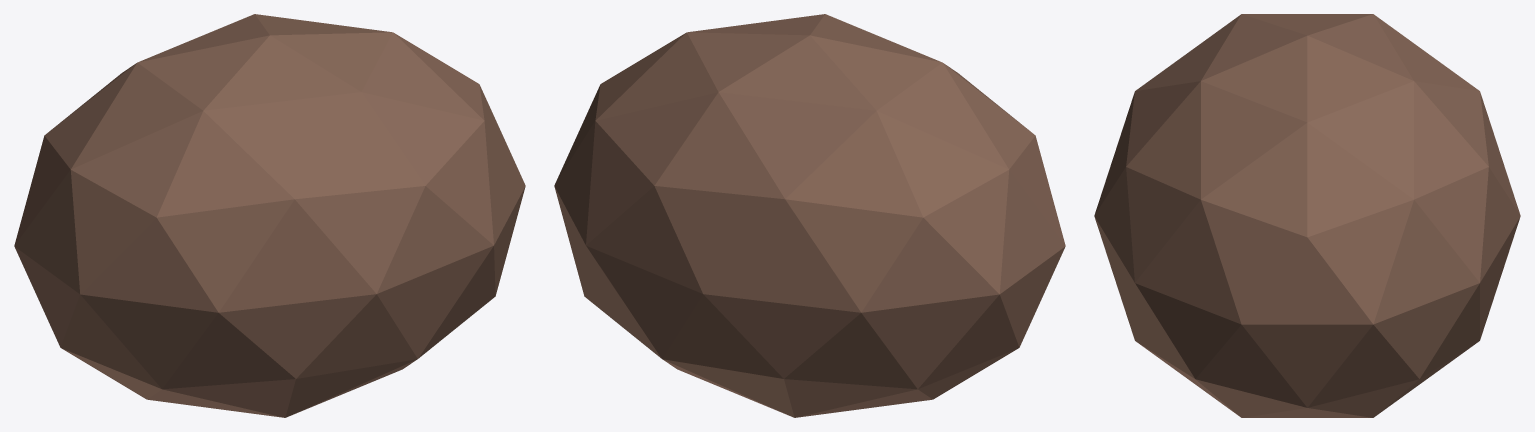
The model's file is drop_truffle.glb.
The picture shows the model from 3 angles, left to right: view 1: azimuth 30°, elevation 25°; view 2: azimuth 150°, elevation 25°; view 3: azimuth 270°, elevation 25°; orthographic projection.
Visible parts, largest first — view 1: FTF_Nature_Truffle_Pickup_StaticMesh; view 2: FTF_Nature_Truffle_Pickup_StaticMesh; view 3: FTF_Nature_Truffle_Pickup_StaticMesh.
Part boxes in pixels (<box>): FTF_Nature_Truffle_Pickup_StaticMesh: <box>14,14,525,417</box>; FTF_Nature_Truffle_Pickup_StaticMesh: <box>554,14,1065,417</box>; FTF_Nature_Truffle_Pickup_StaticMesh: <box>1094,14,1520,417</box>.
Size of the model in its own units: 0.3614 by 0.28 by 0.3.
